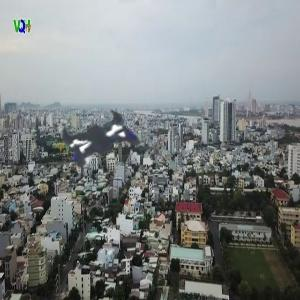drone: (11, 54, 197, 240)
